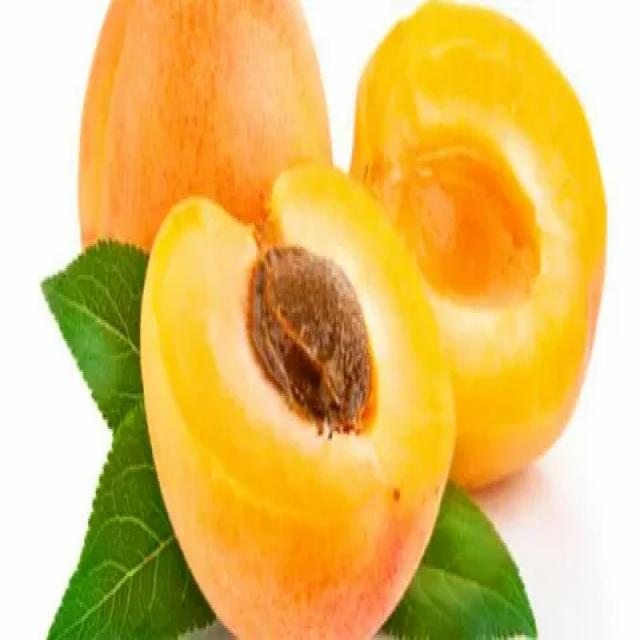Cekirdek: (247, 247, 371, 431)
Kayisi: (141, 166, 453, 638)
Yaprak: (44, 242, 213, 638), (384, 486, 536, 638)
